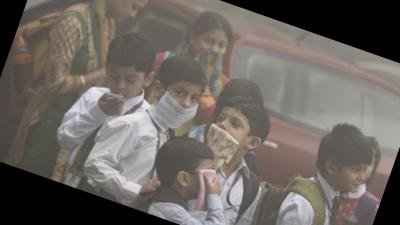mask_weared_incorrect: (152, 79, 202, 135), (190, 29, 232, 70)
with_mask: (181, 161, 218, 208)
without_mask: (207, 109, 252, 157), (99, 63, 147, 106), (333, 155, 370, 196)
